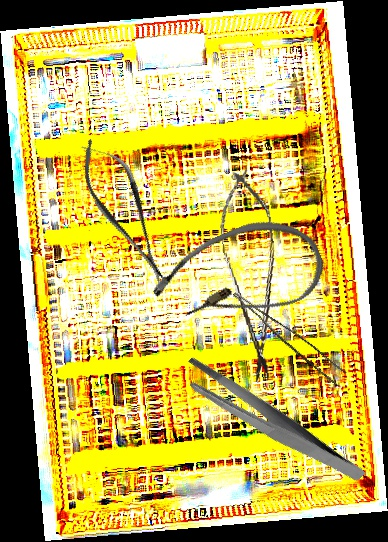Cannula: (143, 202, 334, 352)
Dressing Forceps: (177, 324, 366, 521)
Micro Scissor: (67, 128, 182, 294), (213, 166, 291, 385)
Tissue Forceps: (223, 291, 350, 387)
